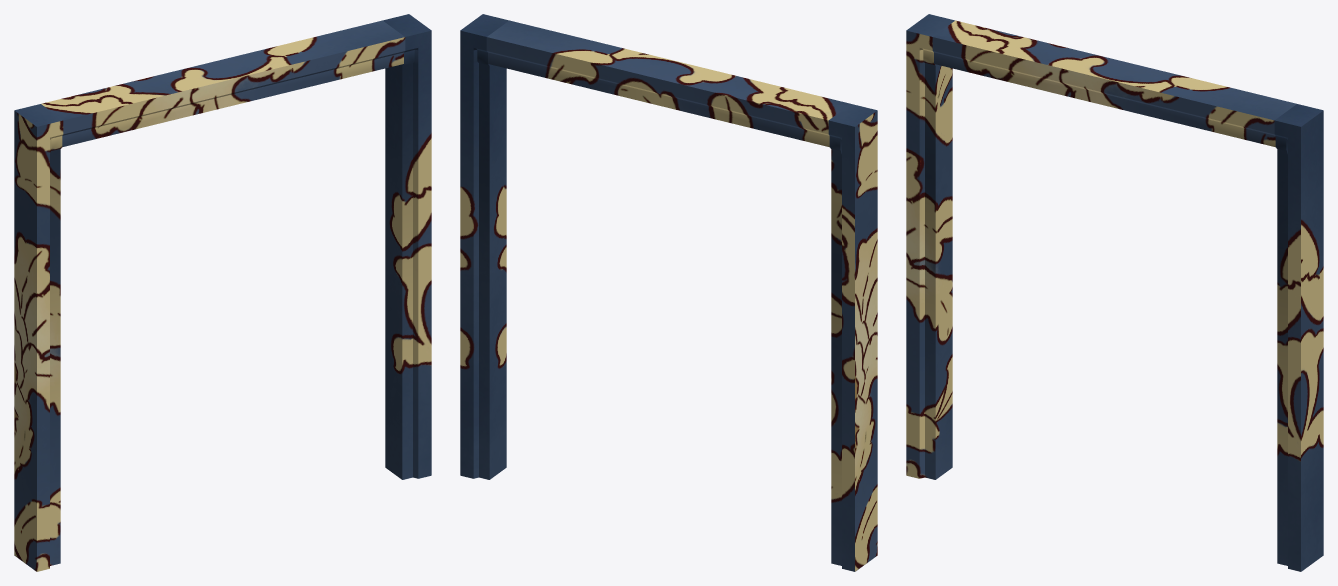
File: Framuga.fbx
3 renders of one model, left to right at view 1: azimuth 30°, elevation 25°; view 2: azimuth 150°, elevation 25°; view 3: azimuth 330°, elevation 25°, orthographic.
Visible parts, largest first — view 1: Framuga; view 2: Framuga; view 3: Framuga.
Boxes of the visible parts, left/top/right/bottom form: Framuga: left=14, top=14, right=431, bottom=571; Framuga: left=460, top=14, right=877, bottom=571; Framuga: left=906, top=14, right=1323, bottom=571.
Size of the model in its own units: 520 by 560 by 51.63.
